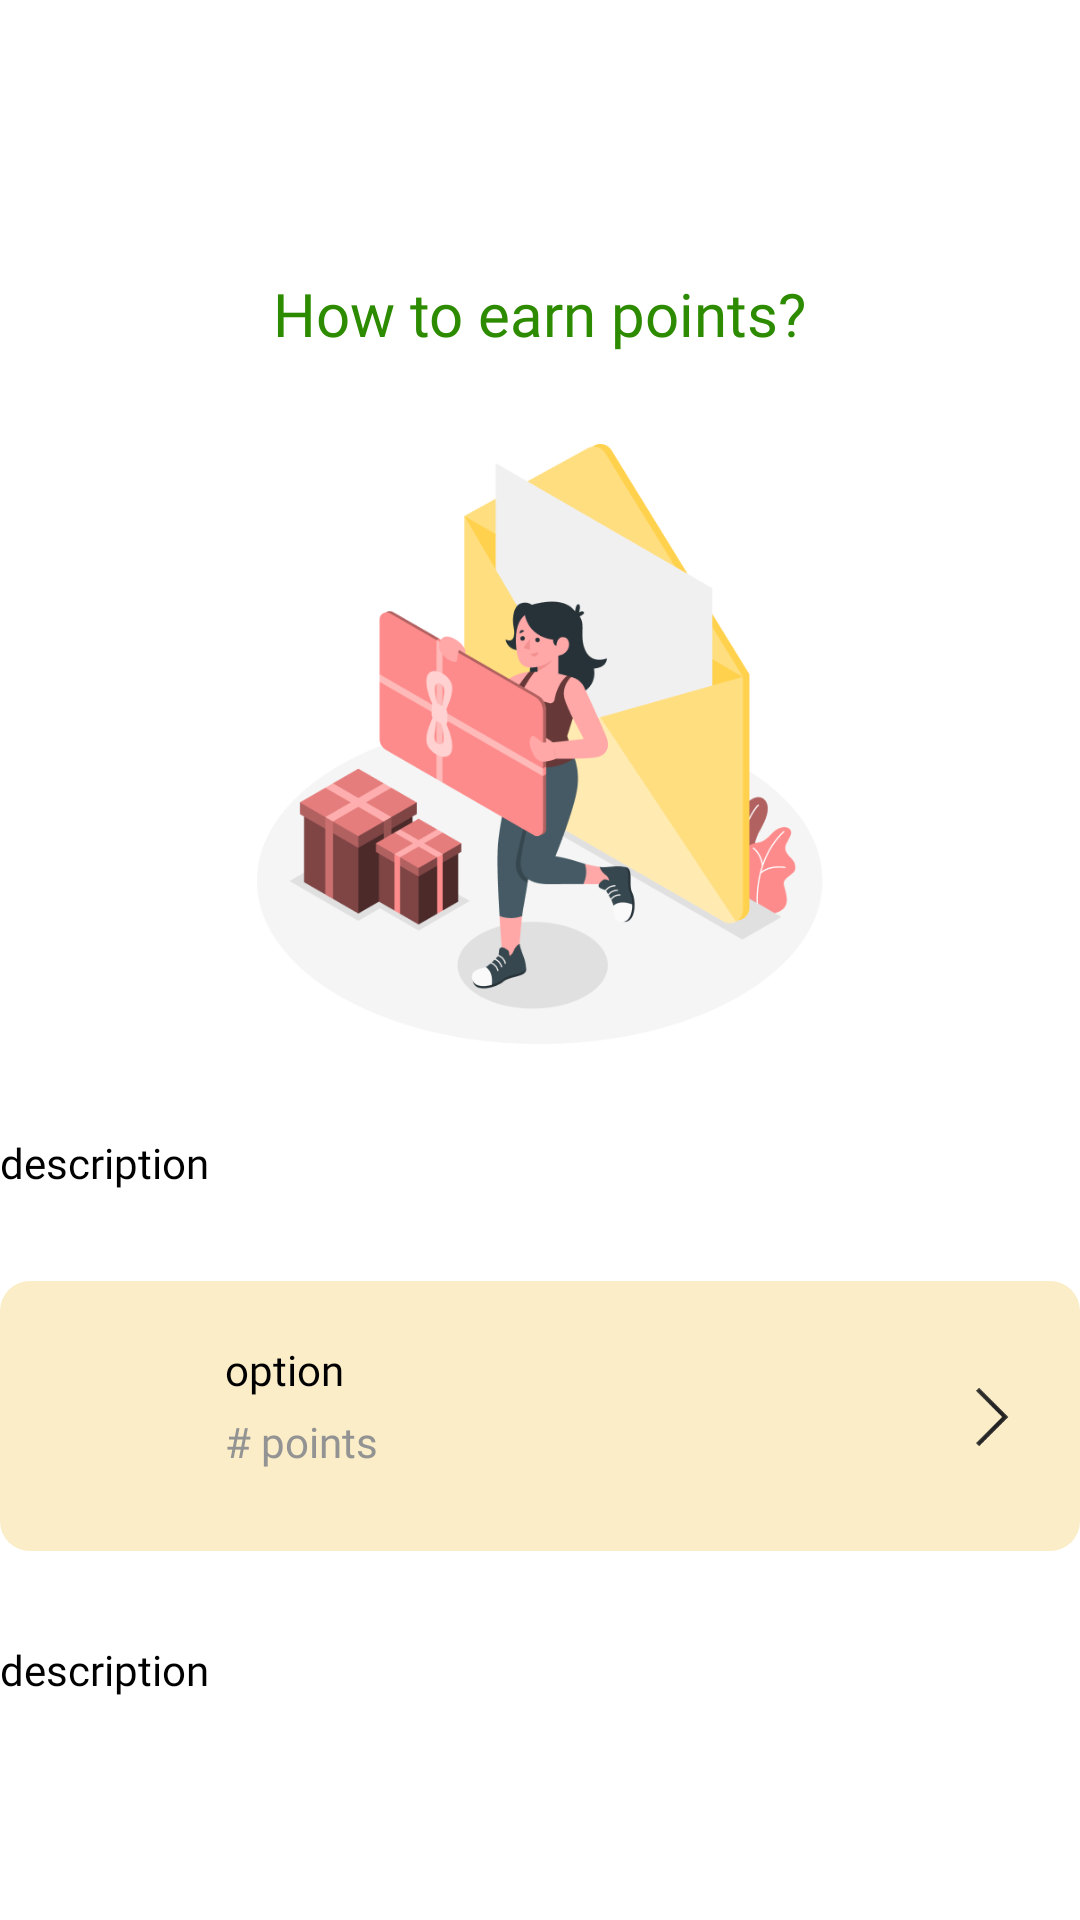

Icons on this 1080 × 1920 Android screen, each with its box as (x1, y1, x2, y2):
arrow right: (976, 1388, 1008, 1446)
